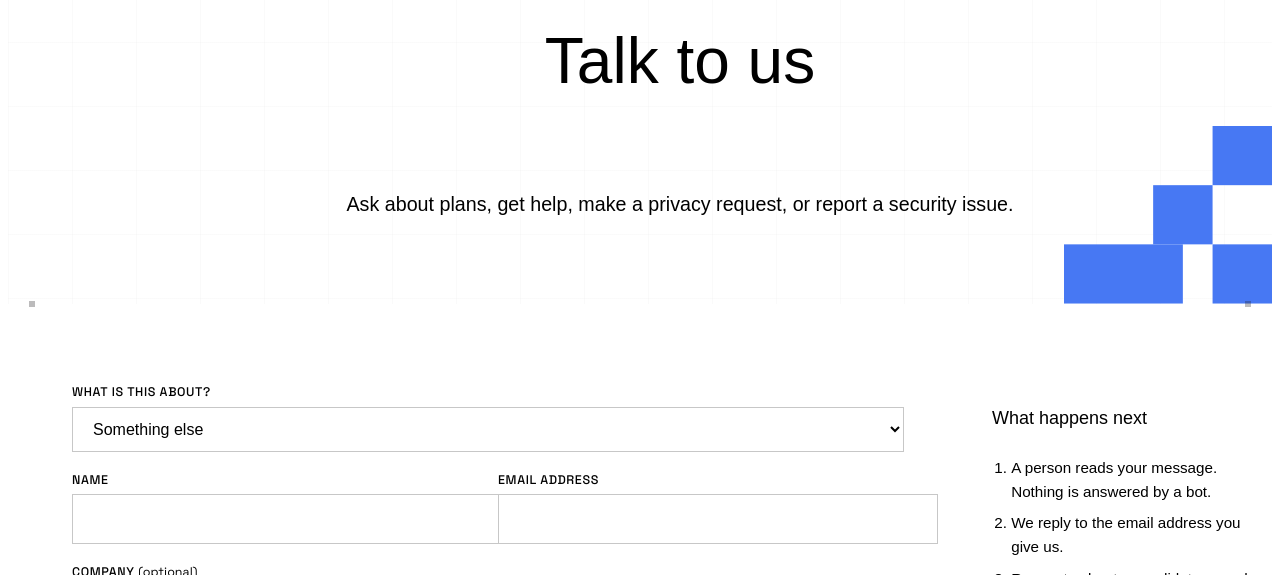
Scenario: ContactPage: validation › checks a field when you leave it and clears the error once it is fixed
Type "not-an-email" into the field labelled "Email address".
click(718, 519); type("not-an-email")  # box left=498, top=494, right=938, bottom=544
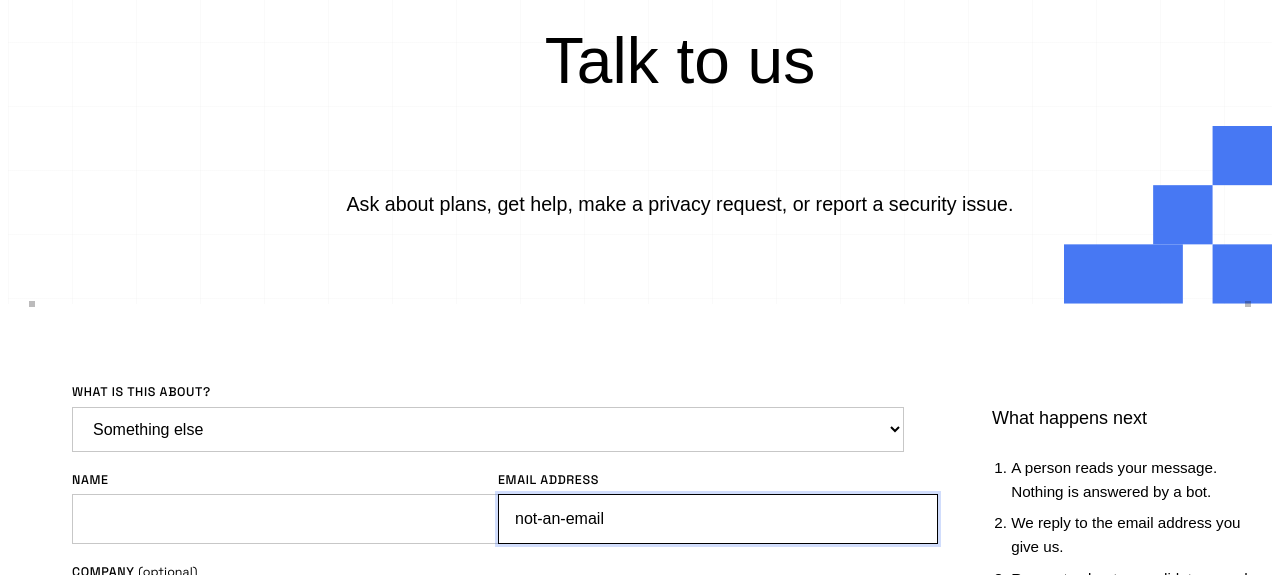
Press Tab
(page scrolled)
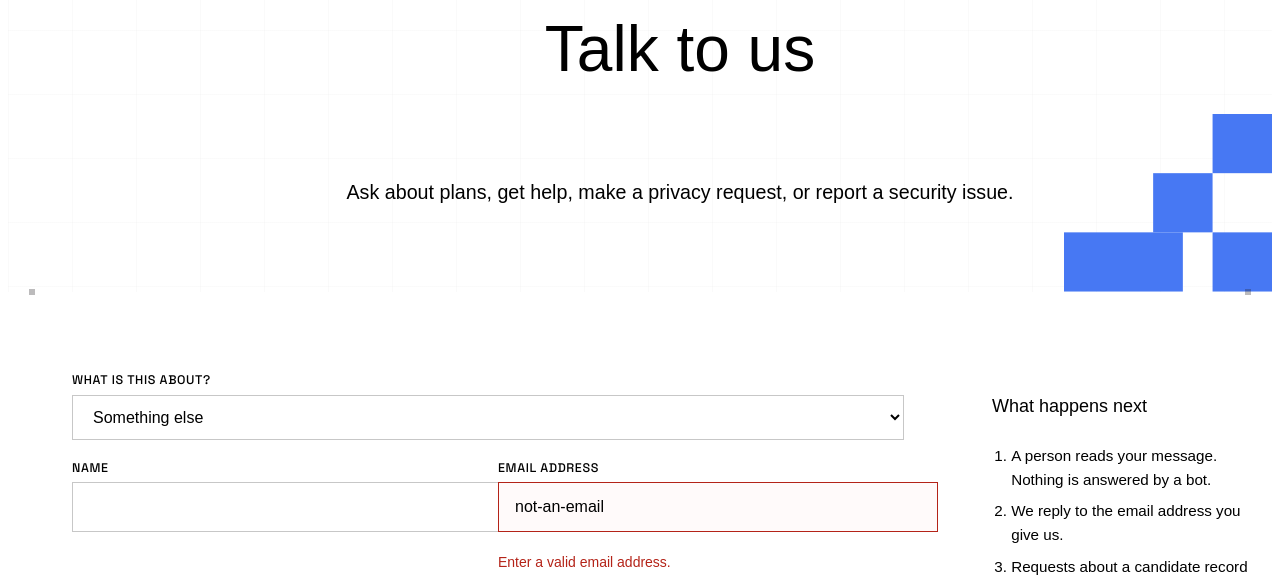
Now the field labelled "Email address" has attribute aria-describedby="contact-email-error"
Replace the text in the field labelled "Email address" with "sara@example.com" at (718, 507), box left=498, top=482, right=938, bottom=532
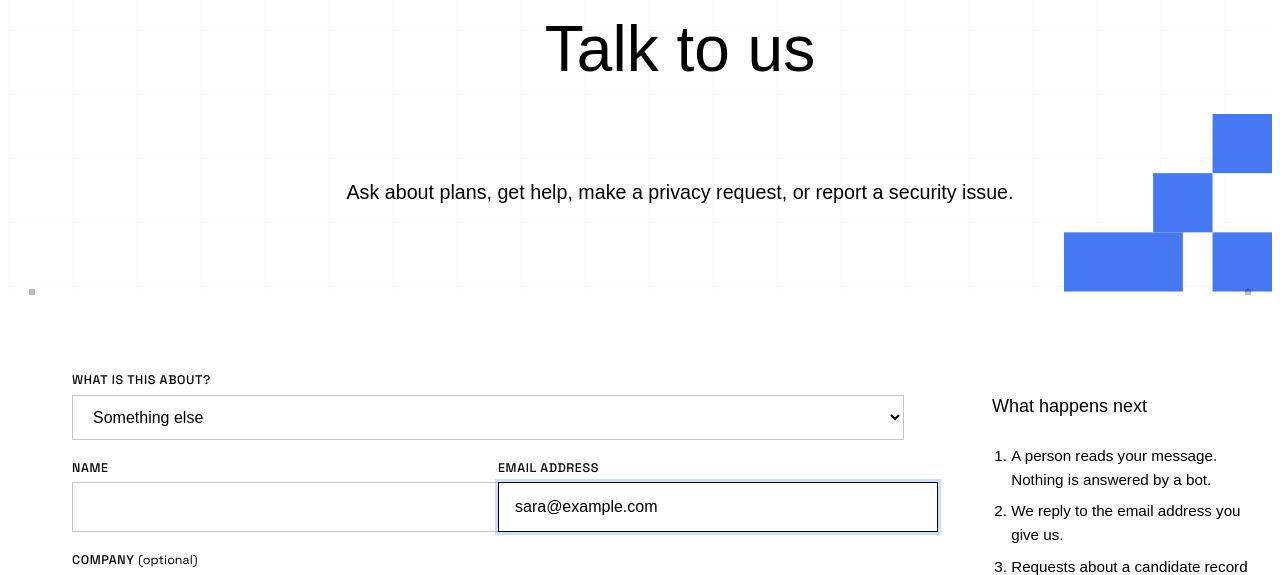
Now the text "Enter a valid email address." is gone
